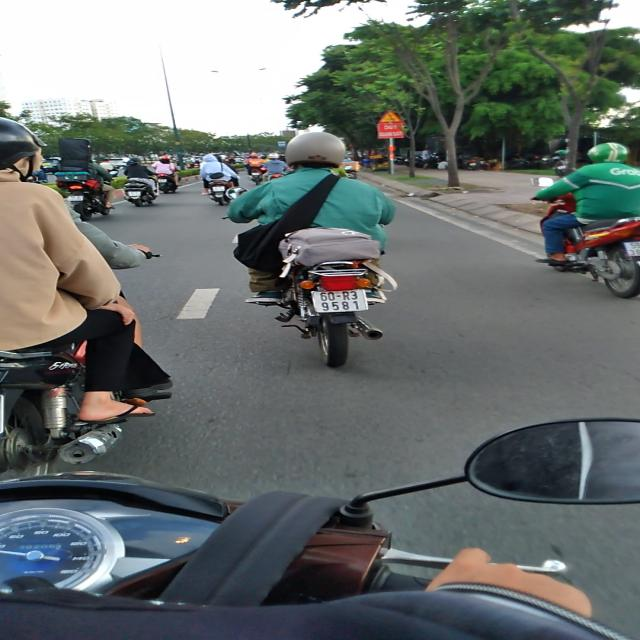Ben xe buyt: (277, 141, 286, 148)
Nguy hiem: (374, 110, 401, 123)
